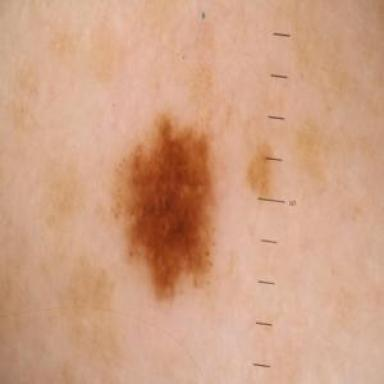Melanoma: (114, 114, 214, 296)
